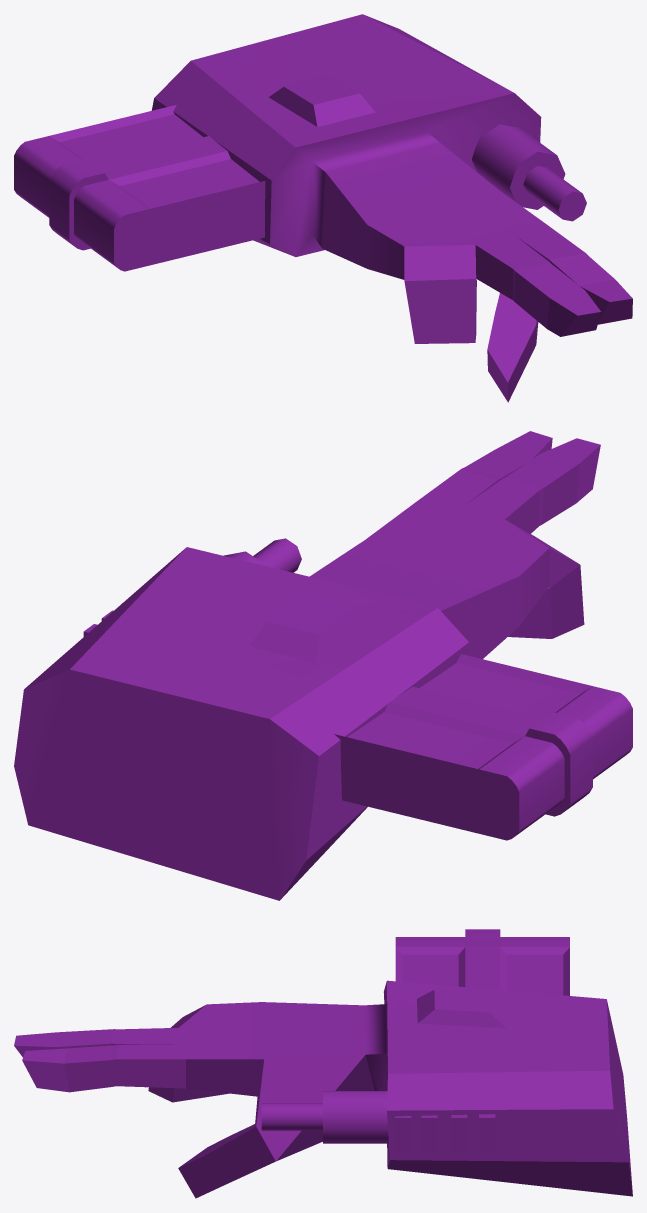
The model's file is Gun.fbx.
The picture shows the model from 3 angles, top to bottom: view 1: azimuth 30°, elevation 25°; view 2: azimuth 150°, elevation 25°; view 3: azimuth 270°, elevation 25°; orthographic projection. The views are drawn at different scales.
Parts seen in each view (by area): view 1: R_GUN, ammo; view 2: R_GUN, ammo; view 3: R_GUN, ammo.
Boxes of the visible parts, <box> form: R_GUN: <box>151,14,632,402</box>; ammo: <box>14,105,265,271</box>; R_GUN: <box>14,431,600,900</box>; ammo: <box>334,654,632,840</box>; R_GUN: <box>14,980,632,1198</box>; ammo: <box>395,929,569,995</box>.
Bounding box in the file's own units: 7.96 × 3.74 × 11.38.
